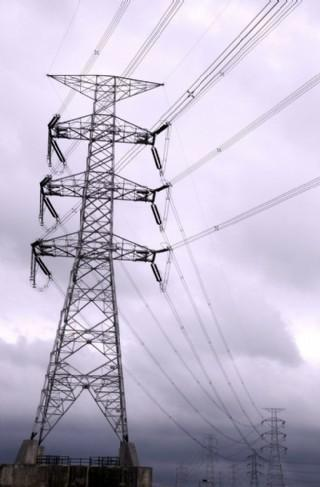power_tower: (9, 65, 181, 460), (259, 402, 290, 481)
